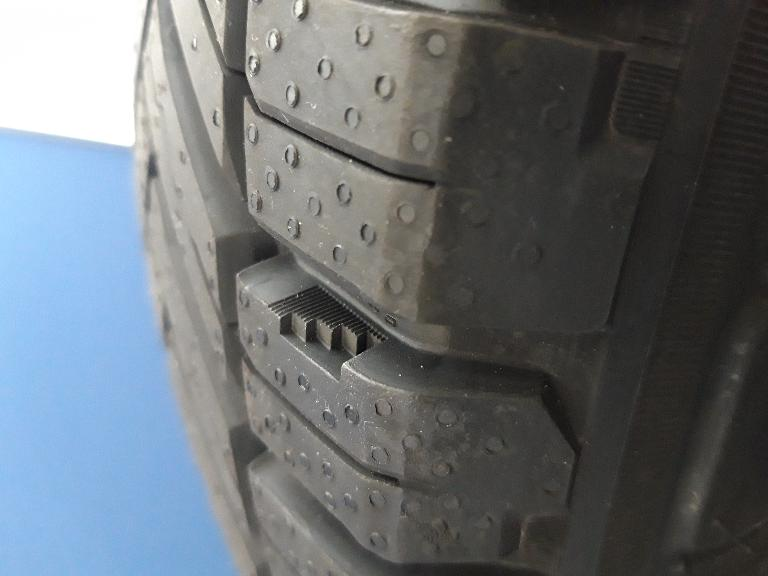temoin:100: (264, 281, 393, 384)
